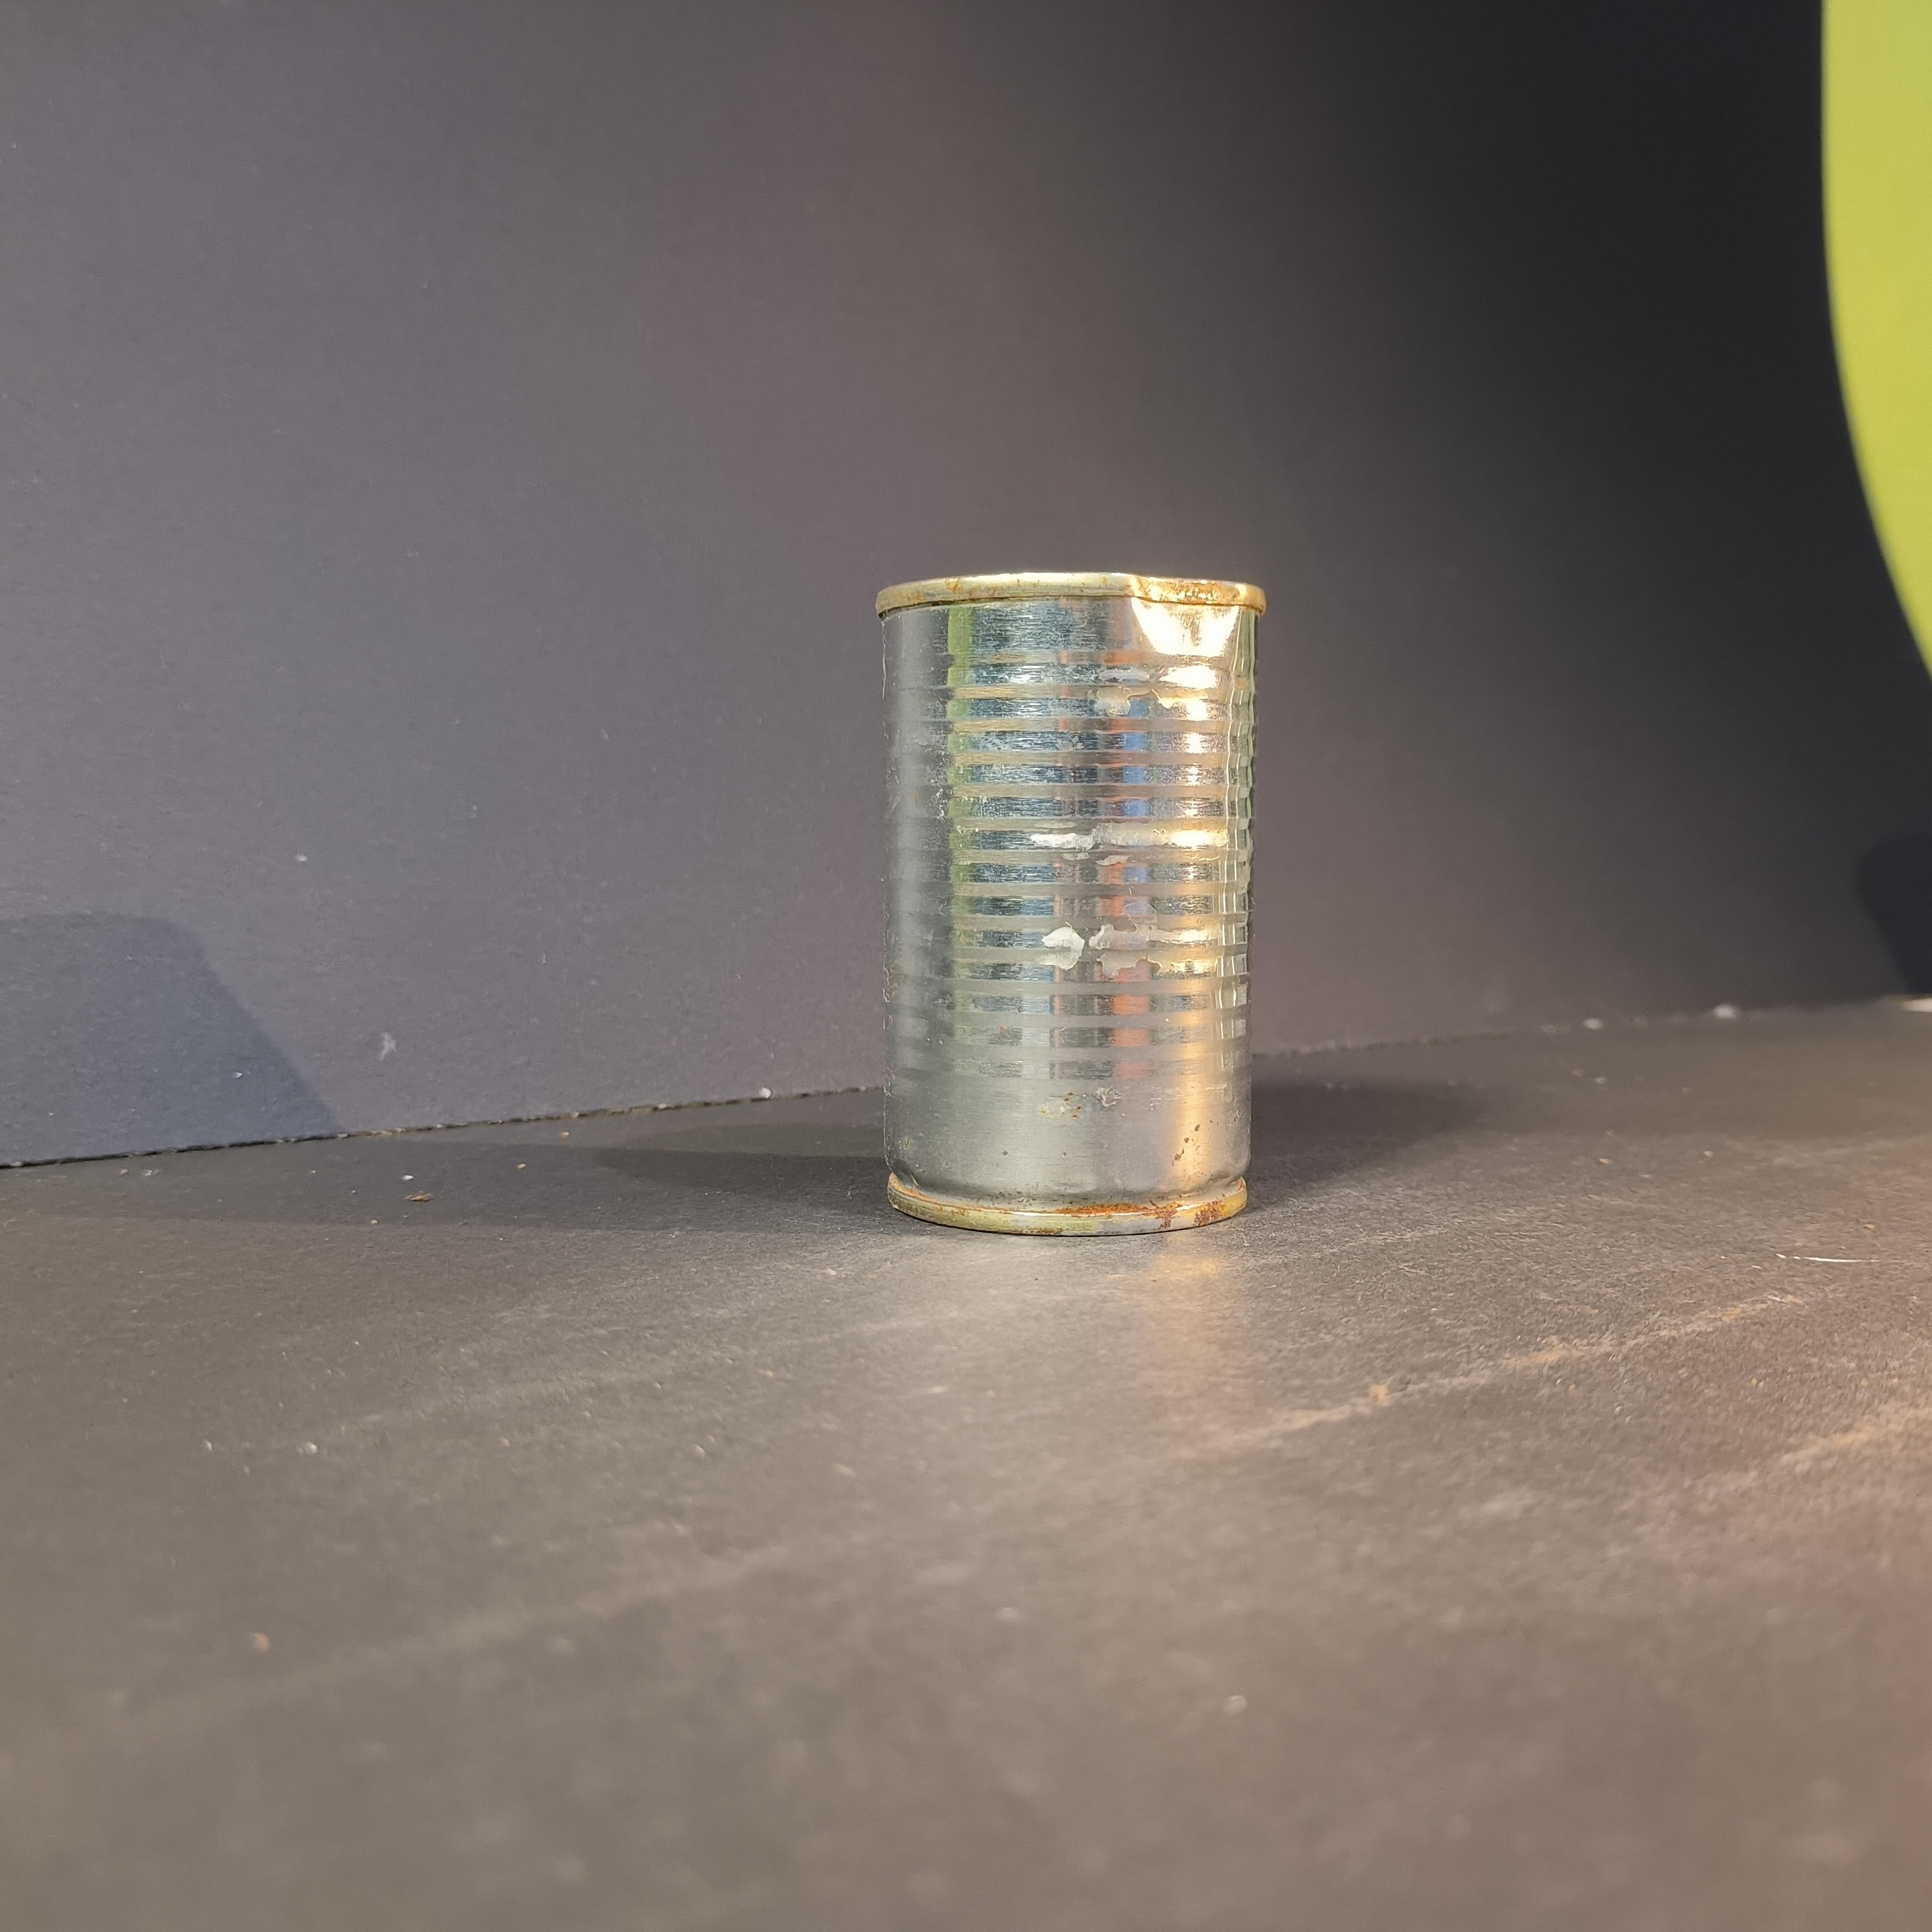Dented: (865, 551, 1274, 1238)
